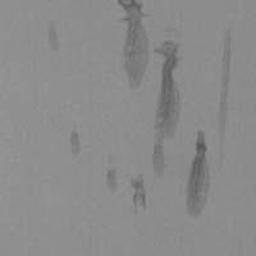Oil spot: (115, 0, 183, 179), (183, 28, 234, 223), (128, 172, 150, 220), (69, 119, 83, 159), (47, 18, 60, 55), (105, 166, 120, 197)
